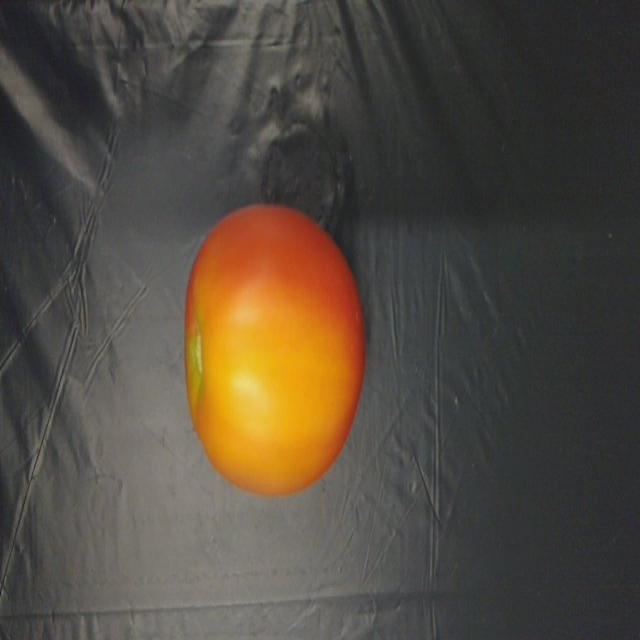sari: (181, 208, 373, 504)
